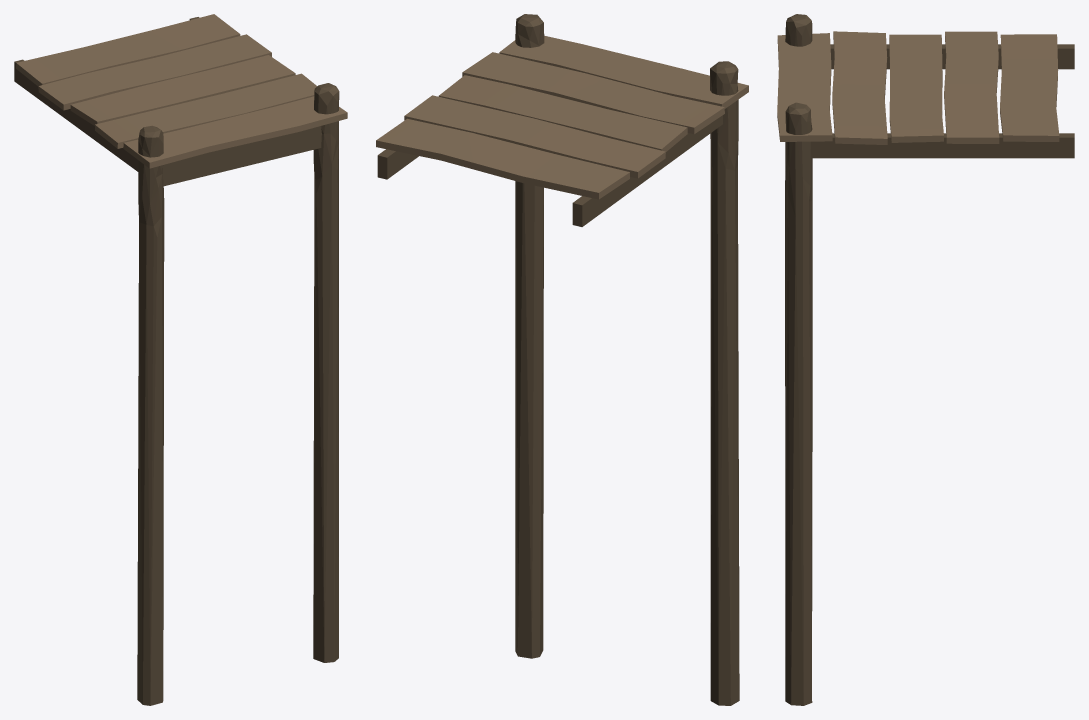
File: port_wooden_bridge_b.FBX
3 renders of one model, left to right at view 1: azimuth 30°, elevation 25°; view 2: azimuth 150°, elevation 25°; view 3: azimuth 270°, elevation 25°, orthographic. The views are drawn at different scales.
Visible parts, largest first — view 1: port_wooden_bridge_b; view 2: port_wooden_bridge_b; view 3: port_wooden_bridge_b.
Boxes of the visible parts, x1=… form: port_wooden_bridge_b: x1=14, y1=14, x2=347, y2=705; port_wooden_bridge_b: x1=376, y1=14, x2=748, y2=705; port_wooden_bridge_b: x1=777, y1=14, x2=1074, y2=705.
Bounding box in the file's own units: 3.69 × 9.56 × 4.33.
